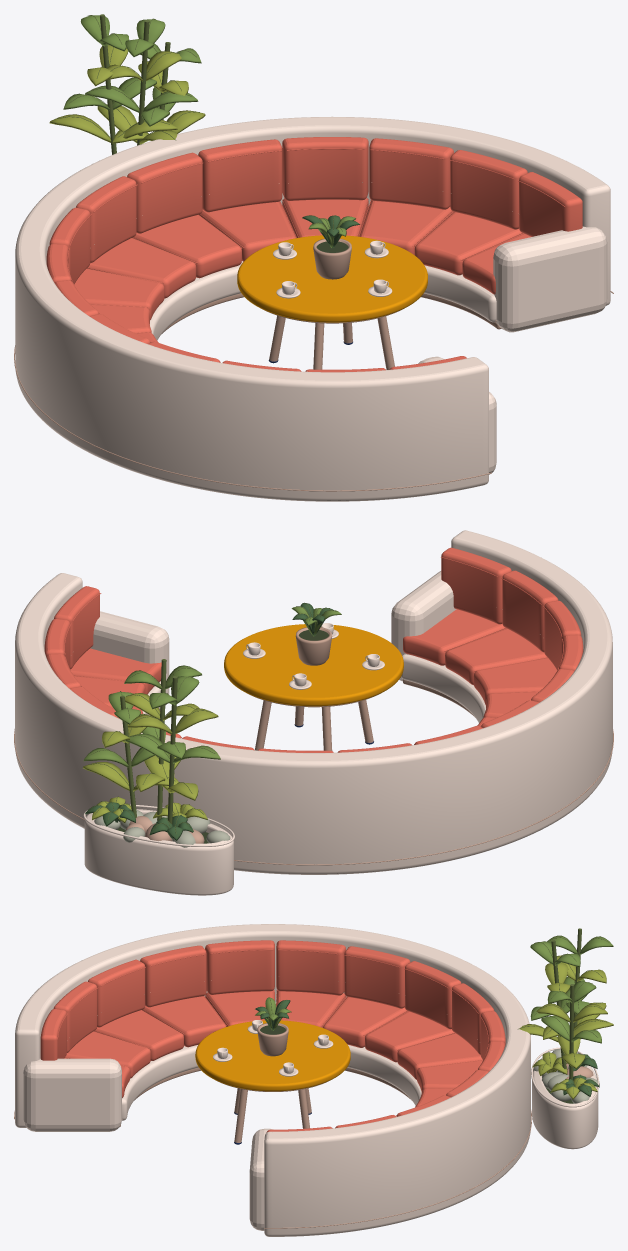
Rendered from 06_conversation_nook.glb.
3 views of the same model, one above another, from view 1: azimuth 30°, elevation 25°; view 2: azimuth 150°, elevation 25°; view 3: azimuth 270°, elevation 25° (orthographic). The views are drawn at different scales.
Visible parts, largest first — view 1: Sofas / Ceramic shell / Warm Ivory / Ceramic.002, Sofas / Back cushions / Coral / Upholstery.002, Sofas / Seat cushions / Coral / Upholstery.002, Tables / Round table / Mustard Yellow / Furniture.002, Planting / Leaves / Natural lime foliage.004, Planting / Leaves / Natural sage foliage.004, Planting / Stems / Natural olive stems.004, Tables / Round table / Soft Taupe / Recess and stone.002, Sofas / Ceramic shell / Soft Taupe / Recess and stone.002, Tabletop / Ceramics / Warm Ivory / Ceramic.002, Tabletop / Potted plant / Soft Taupe / Recess and stone.002, Sofas / Back cushions / Coral / Sewn welt.002 (+1 smaller); view 2: Sofas / Ceramic shell / Warm Ivory / Ceramic.002, Sofas / Back cushions / Coral / Upholstery.002, Sofas / Seat cushions / Coral / Upholstery.002, Tables / Round table / Mustard Yellow / Furniture.002, Planting / Ceramic planters / Warm Ivory / Ceramic.004, Planting / Leaves / Natural lime foliage.004, Planting / Leaves / Natural sage foliage.004, Planting / Stems / Natural olive stems.004, Tables / Round table / Soft Taupe / Recess and stone.002, Planting / River stones / Natural pale river pebble.004, Planting / Leaves / Natural deep green foliage.004, Sofas / Ceramic shell / Soft Taupe / Recess and stone.002 (+3 smaller); view 3: Sofas / Ceramic shell / Warm Ivory / Ceramic.002, Sofas / Back cushions / Coral / Upholstery.002, Sofas / Seat cushions / Coral / Upholstery.002, Tables / Round table / Mustard Yellow / Furniture.002, Planting / Leaves / Natural lime foliage.004, Planting / Ceramic planters / Warm Ivory / Ceramic.004, Planting / Leaves / Natural sage foliage.004, Planting / Stems / Natural olive stems.004, Tables / Round table / Soft Taupe / Recess and stone.002, Sofas / Ceramic shell / Soft Taupe / Recess and stone.002, Tabletop / Ceramics / Warm Ivory / Ceramic.002, Planting / River stones / Natural pale river pebble.004 (+4 smaller).
Boxes of the visible parts, x1=… form: Sofas / Ceramic shell / Warm Ivory / Ceramic.002: x1=15, y1=116, x2=610, y2=501; Sofas / Back cushions / Coral / Upholstery.002: x1=46, y1=137, x2=582, y2=372; Sofas / Seat cushions / Coral / Upholstery.002: x1=74, y1=198, x2=530, y2=342; Tables / Round table / Mustard Yellow / Furniture.002: x1=237, y1=235, x2=427, y2=322; Planting / Leaves / Natural lime foliage.004: x1=49, y1=45, x2=205, y2=144; Planting / Leaves / Natural sage foliage.004: x1=63, y1=15, x2=201, y2=126; Planting / Stems / Natural olive stems.004: x1=57, y1=14, x2=199, y2=154; Tables / Round table / Soft Taupe / Recess and stone.002: x1=260, y1=308, x2=400, y2=369; Sofas / Ceramic shell / Soft Taupe / Recess and stone.002: x1=14, y1=291, x2=613, y2=491; Tabletop / Ceramics / Warm Ivory / Ceramic.002: x1=273, y1=240, x2=392, y2=298; Tabletop / Potted plant / Soft Taupe / Recess and stone.002: x1=313, y1=238, x2=351, y2=279; Sofas / Back cushions / Coral / Sewn welt.002: x1=67, y1=148, x2=564, y2=362; Sofas / Ceramic shell / Warm Ivory / Ceramic.002: x1=15, y1=530, x2=612, y2=874; Sofas / Back cushions / Coral / Upholstery.002: x1=44, y1=547, x2=583, y2=752; Sofas / Seat cushions / Coral / Upholstery.002: x1=70, y1=609, x2=557, y2=726; Tables / Round table / Mustard Yellow / Furniture.002: x1=224, y1=624, x2=403, y2=706; Planting / Ceramic planters / Warm Ivory / Ceramic.004: x1=83, y1=804, x2=234, y2=895; Planting / Leaves / Natural lime foliage.004: x1=83, y1=693, x2=218, y2=822; Planting / Leaves / Natural sage foliage.004: x1=83, y1=665, x2=220, y2=767; Planting / Stems / Natural olive stems.004: x1=88, y1=659, x2=214, y2=834; Tables / Round table / Soft Taupe / Recess and stone.002: x1=247, y1=693, x2=380, y2=750; Planting / River stones / Natural pale river pebble.004: x1=94, y1=809, x2=230, y2=847; Planting / Leaves / Natural deep green foliage.004: x1=85, y1=802, x2=193, y2=840; Sofas / Ceramic shell / Soft Taupe / Recess and stone.002: x1=14, y1=679, x2=613, y2=865; Sofas / Ceramic shell / Warm Ivory / Ceramic.002: x1=15, y1=924, x2=530, y2=1236; Sofas / Back cushions / Coral / Upholstery.002: x1=40, y1=940, x2=505, y2=1132; Sofas / Seat cushions / Coral / Upholstery.002: x1=64, y1=990, x2=482, y2=1107; Tables / Round table / Mustard Yellow / Furniture.002: x1=195, y1=1020, x2=350, y2=1091; Planting / Leaves / Natural lime foliage.004: x1=519, y1=955, x2=613, y2=1099; Planting / Ceramic planters / Warm Ivory / Ceramic.004: x1=531, y1=1047, x2=599, y2=1149; Planting / Leaves / Natural sage foliage.004: x1=530, y1=935, x2=613, y2=1043; Planting / Stems / Natural olive stems.004: x1=517, y1=928, x2=608, y2=1093; Tables / Round table / Soft Taupe / Recess and stone.002: x1=215, y1=1080, x2=328, y2=1142; Sofas / Ceramic shell / Soft Taupe / Recess and stone.002: x1=14, y1=1067, x2=532, y2=1228; Tabletop / Ceramics / Warm Ivory / Ceramic.002: x1=213, y1=1020, x2=333, y2=1076; Planting / River stones / Natural pale river pebble.004: x1=533, y1=1049, x2=599, y2=1103.
Size of the model in its own units: 4.94 by 1.93 by 5.72.
